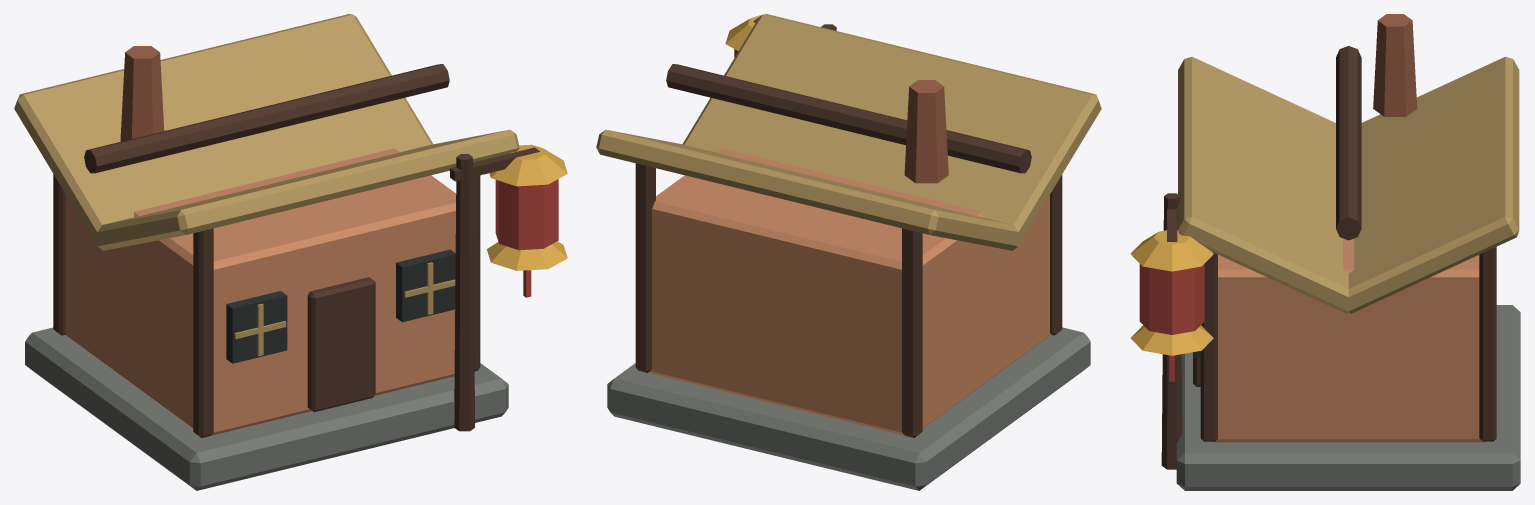
The model's file is building_house.glb.
3 renders of one model, left to right at view 1: azimuth 30°, elevation 25°; view 2: azimuth 150°, elevation 25°; view 3: azimuth 270°, elevation 25°, orthographic.
Visible parts, largest first — view 1: PlasterWalls, ThatchRoof_Back, StonePlinth, ThatchRoof_Front, ThatchRoof_Ridge, FrontDoor, Post, CornerPost, LanternBody, Chimney, WindowLeft, WindowRight (+5 smaller); view 2: PlasterWalls, ThatchRoof_Front, StonePlinth, ThatchRoof_Back, ThatchRoof_Ridge, CornerPost.001, Chimney, CornerPost.003, CornerPost, LanternCapTop; view 3: PlasterWalls, ThatchRoof_Front, ThatchRoof_Back, StonePlinth, ThatchRoof_Ridge, LanternBody, Chimney, CornerPost.003, CornerPost.002, Post, LanternCapTop, LanternCapBottom.
Boxes of the visible parts, x1,y1,x2,y2 form: PlasterWalls: (65, 148, 456, 435); ThatchRoof_Back: (14, 14, 432, 247); StonePlinth: (25, 327, 508, 490); ThatchRoof_Front: (95, 129, 519, 250); ThatchRoof_Ridge: (84, 64, 449, 173); FrontDoor: (307, 277, 375, 411); Post: (454, 154, 474, 431); CornerPost: (193, 228, 213, 437); LanternBody: (495, 179, 558, 250); Chimney: (120, 46, 164, 141); WindowLeft: (226, 291, 287, 363); WindowRight: (396, 249, 455, 322); PlasterWalls: (649, 148, 1050, 435); ThatchRoof_Front: (682, 14, 1101, 246); StonePlinth: (607, 327, 1090, 490); ThatchRoof_Back: (596, 129, 1021, 250); ThatchRoof_Ridge: (666, 64, 1031, 173); CornerPost.001: (902, 228, 922, 437); Chimney: (904, 80, 948, 183); CornerPost.003: (635, 163, 655, 372); CornerPost: (1050, 174, 1062, 335); LanternCapTop: (725, 15, 774, 50); PlasterWalls: (1212, 238, 1484, 442); ThatchRoof_Front: (1178, 56, 1353, 313); ThatchRoof_Back: (1342, 56, 1519, 313); StonePlinth: (1176, 305, 1520, 490); ThatchRoof_Ridge: (1336, 46, 1361, 240); LanternBody: (1139, 264, 1204, 334); Chimney: (1373, 14, 1417, 116); CornerPost.003: (1479, 247, 1496, 441); CornerPost.002: (1200, 252, 1217, 441); Post: (1161, 193, 1182, 469); LanternCapTop: (1130, 230, 1213, 271); LanternCapBottom: (1130, 325, 1213, 355).
Size of the model in its own units: 1.9 by 1.65 by 1.68.
